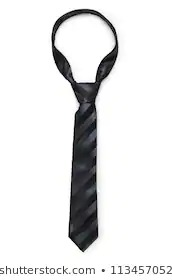F_tie: (45, 4, 125, 260)
